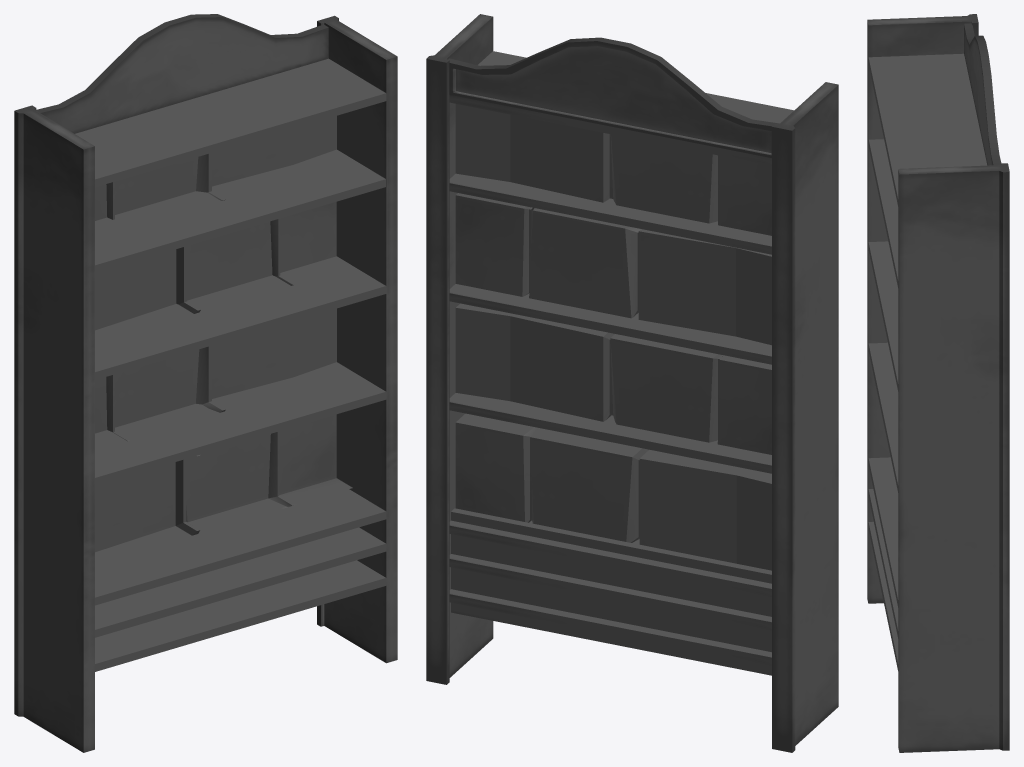
Rendered from BookShelves.fbx.
3 renders of one model, left to right at view 1: azimuth 30°, elevation 25°; view 2: azimuth 150°, elevation 25°; view 3: azimuth 270°, elevation 25°, orthographic. The views are drawn at different scales.
Parts seen in each view (by area): view 1: bookShelves1; view 2: bookShelves1; view 3: bookShelves1.
Part boxes in pixels (x1,y1,x2,y2): bookShelves1: [14, 14, 397, 752]; bookShelves1: [426, 14, 838, 752]; bookShelves1: [867, 14, 1009, 752].
Bounding box in the file's own units: 6.45 × 11.67 × 2.42.
